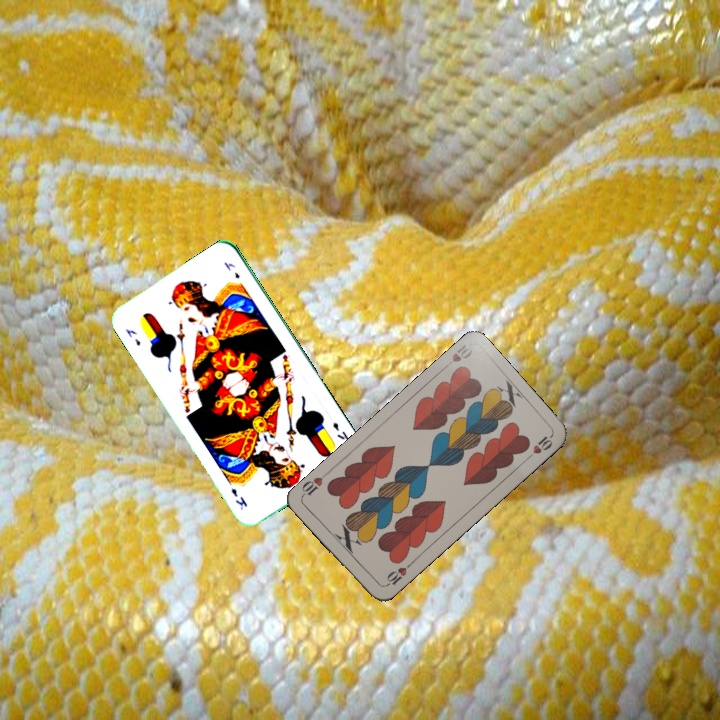EK: (328, 418, 352, 444), (122, 325, 143, 349)
H10: (439, 340, 475, 372), (380, 559, 414, 590)
